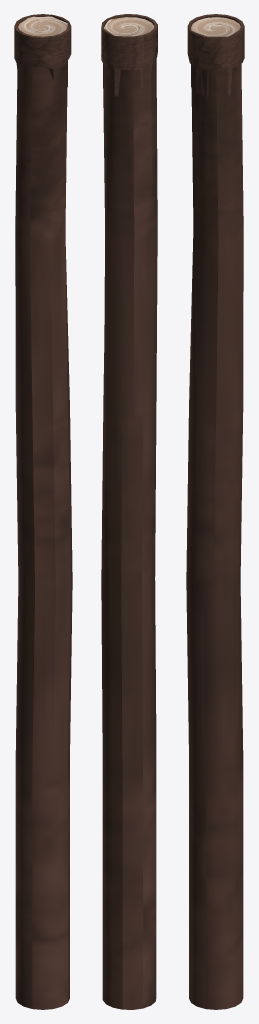
File: stump.glb
The picture shows the model from 3 angles, left to right: view 1: azimuth 90°, elevation 25°; view 2: azimuth 210°, elevation 25°; view 3: azimuth 270°, elevation 25°; orthographic projection.
Visible parts, largest first — view 1: Cylinder, Cylinder.001; view 2: Cylinder, Cylinder.001; view 3: Cylinder, Cylinder.001.
Boxes of the visible parts, x1=… form: Cylinder: x1=15, y1=16, x2=72, y2=1009; Cylinder.001: x1=14, y1=14, x2=71, y2=87; Cylinder: x1=101, y1=17, x2=157, y2=1009; Cylinder.001: x1=101, y1=14, x2=157, y2=96; Cylinder: x1=186, y1=17, x2=243, y2=1009; Cylinder.001: x1=187, y1=14, x2=244, y2=96.
Bounding box in the file's own units: 2.12 × 39.57 × 2.15.
Materials: 1 (1 with a texture image).
